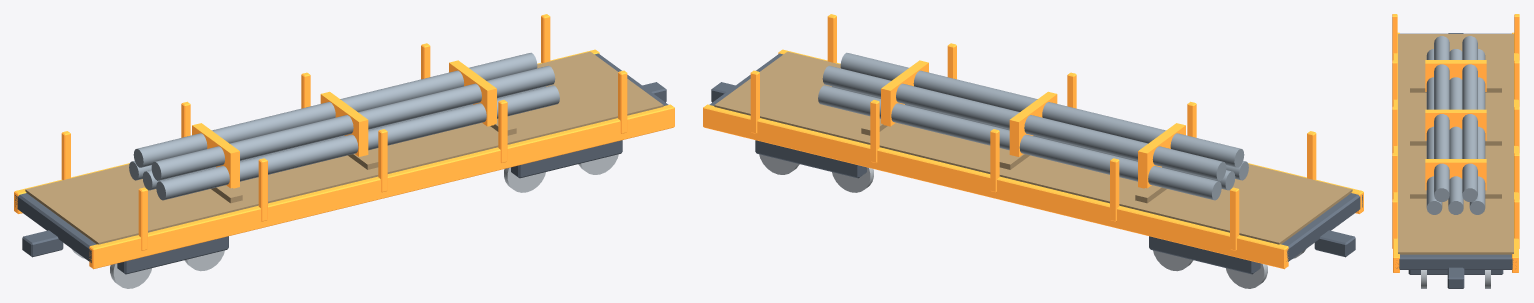
Rendered from rebar-wagon-v4-high.glb.
The picture shows the model from 3 angles, left to right: view 1: azimuth 30°, elevation 25°; view 2: azimuth 150°, elevation 25°; view 3: azimuth 270°, elevation 25°; orthographic projection. The views are drawn at different scales.
Visible parts, largest first — view 1: rebar-wagon-v4-high.glb-v5_timber_dunnage, rebar-wagon-v4-high.glb-v5_crane_orange, rebar-wagon-v4-high.glb-v5_rebar_bundle, rebar-wagon-v4-high.glb-v5_heavy_gunmetal, rebar-wagon-v4-high.glb-v5_bright_steel; view 2: rebar-wagon-v4-high.glb-v5_timber_dunnage, rebar-wagon-v4-high.glb-v5_crane_orange, rebar-wagon-v4-high.glb-v5_rebar_bundle, rebar-wagon-v4-high.glb-v5_heavy_gunmetal, rebar-wagon-v4-high.glb-v5_bright_steel; view 3: rebar-wagon-v4-high.glb-v5_timber_dunnage, rebar-wagon-v4-high.glb-v5_rebar_bundle, rebar-wagon-v4-high.glb-v5_crane_orange, rebar-wagon-v4-high.glb-v5_heavy_gunmetal, rebar-wagon-v4-high.glb-v5_bright_steel.
Boxes of the visible parts, x1,y1,x2,y2 form: rebar-wagon-v4-high.glb-v5_timber_dunnage: [25, 51, 663, 244]; rebar-wagon-v4-high.glb-v5_crane_orange: [14, 14, 674, 269]; rebar-wagon-v4-high.glb-v5_rebar_bundle: [129, 52, 559, 200]; rebar-wagon-v4-high.glb-v5_heavy_gunmetal: [15, 53, 668, 274]; rebar-wagon-v4-high.glb-v5_bright_steel: [72, 154, 618, 288]; rebar-wagon-v4-high.glb-v5_timber_dunnage: [714, 51, 1352, 244]; rebar-wagon-v4-high.glb-v5_crane_orange: [703, 14, 1363, 269]; rebar-wagon-v4-high.glb-v5_rebar_bundle: [818, 52, 1248, 200]; rebar-wagon-v4-high.glb-v5_heavy_gunmetal: [709, 53, 1362, 274]; rebar-wagon-v4-high.glb-v5_bright_steel: [759, 154, 1305, 288]; rebar-wagon-v4-high.glb-v5_timber_dunnage: [1398, 34, 1513, 254]; rebar-wagon-v4-high.glb-v5_rebar_bundle: [1426, 36, 1485, 214]; rebar-wagon-v4-high.glb-v5_crane_orange: [1392, 14, 1519, 272]; rebar-wagon-v4-high.glb-v5_heavy_gunmetal: [1396, 33, 1513, 288]; rebar-wagon-v4-high.glb-v5_bright_steel: [1421, 270, 1490, 288].
Bounding box in the file's own units: 14.85 × 2.53 × 3.26.
